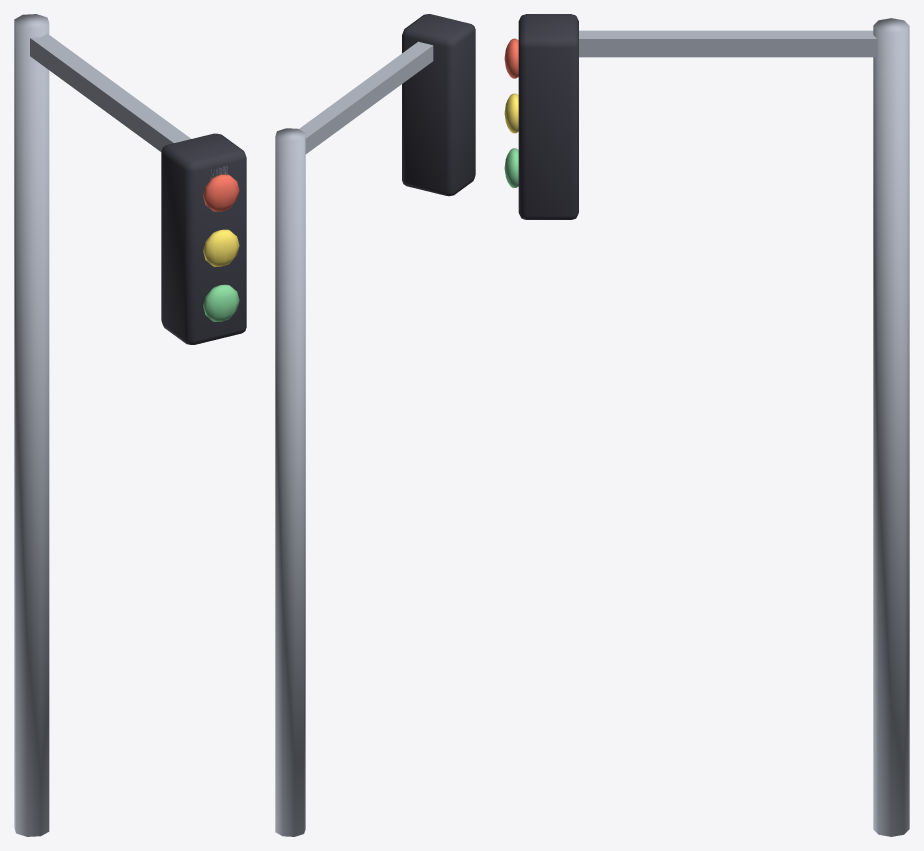
Rendered from Prop_TrafficLight.fbx.
The picture shows the model from 3 angles, left to right: view 1: azimuth 30°, elevation 25°; view 2: azimuth 150°, elevation 25°; view 3: azimuth 270°, elevation 25°; orthographic projection. The views are drawn at different scales.
Visible parts, largest first — view 1: Prop_TrafficLight; view 2: Prop_TrafficLight; view 3: Prop_TrafficLight.
Boxes of the visible parts, left/top/right/bottom form: Prop_TrafficLight: left=14, top=14, right=246, bottom=836; Prop_TrafficLight: left=275, top=14, right=475, bottom=836; Prop_TrafficLight: left=504, top=14, right=909, bottom=836.
Bounding box in the file's own units: 0.35 × 4.4 × 2.01.
